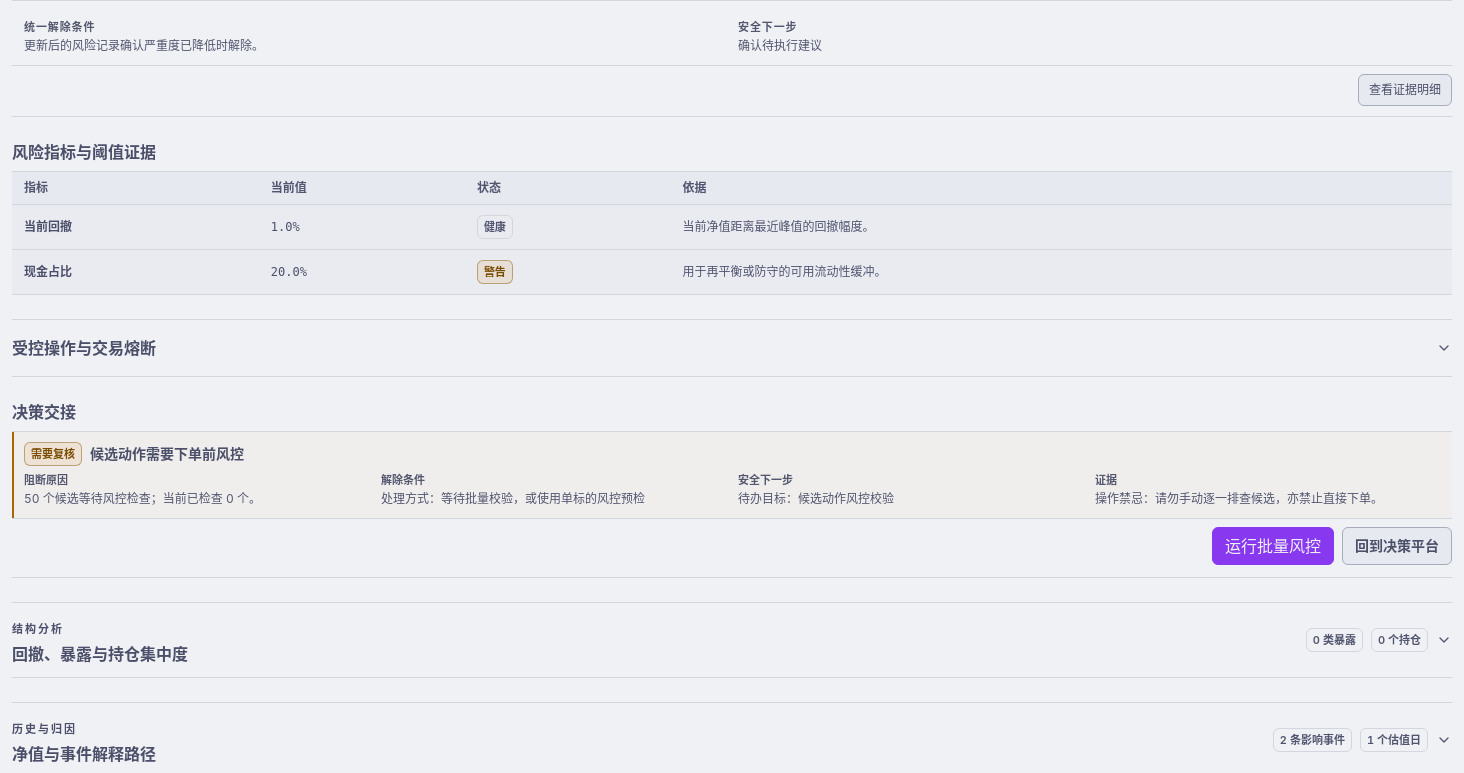
Scenario: runs batch pre-trade risk gate from the risk handoff panel
The width and height of the screenshot is (1464, 773).
(page scrolled)
What coordinates should you click on to do the following:
click the button "运行批量风控"
I would click on:
 (1273, 546)
Its box is x1=1212 y1=527 x2=1334 y2=565.
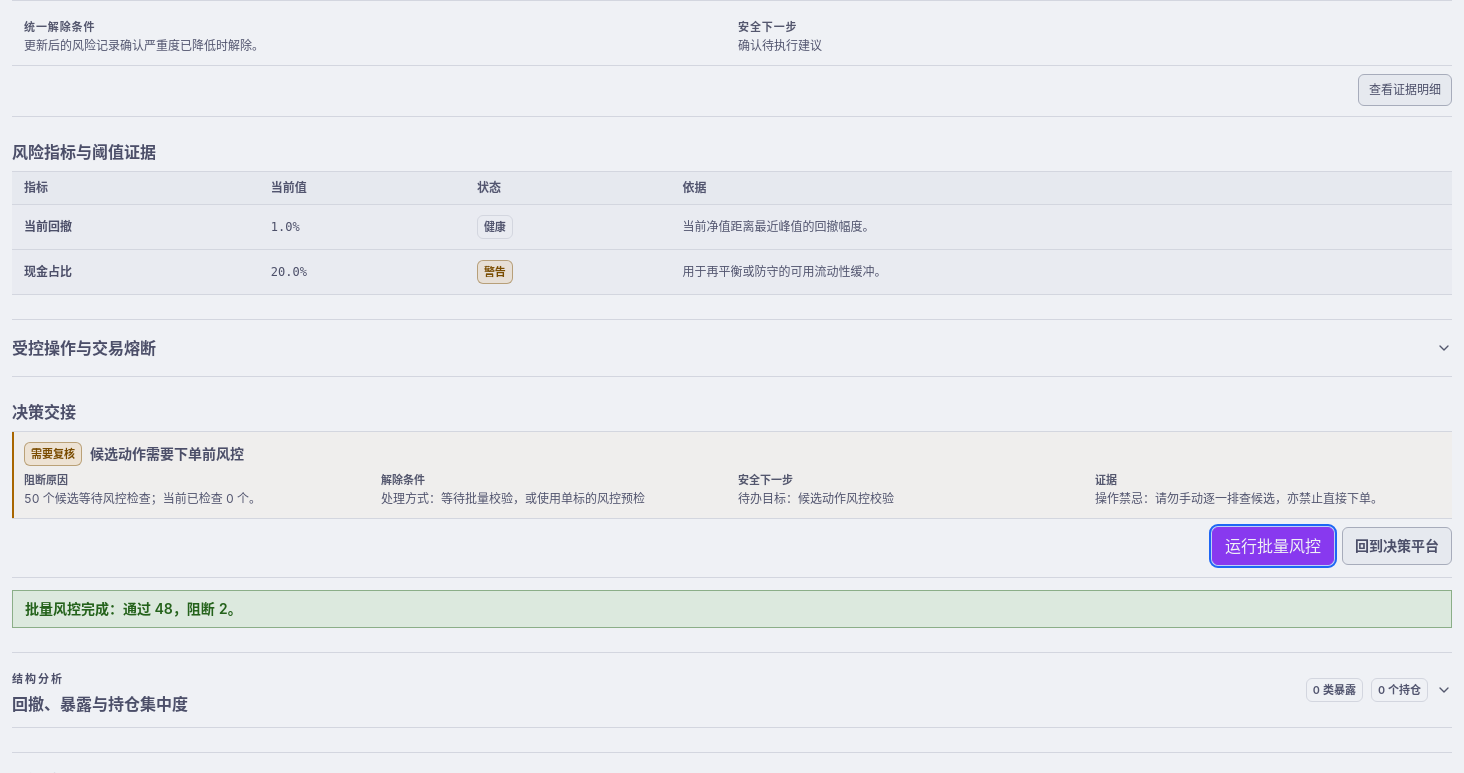
Expected: the text "批量风控完成：通过 48，阻断 2。" is shown, x1=12 y1=590 x2=1452 y2=628
